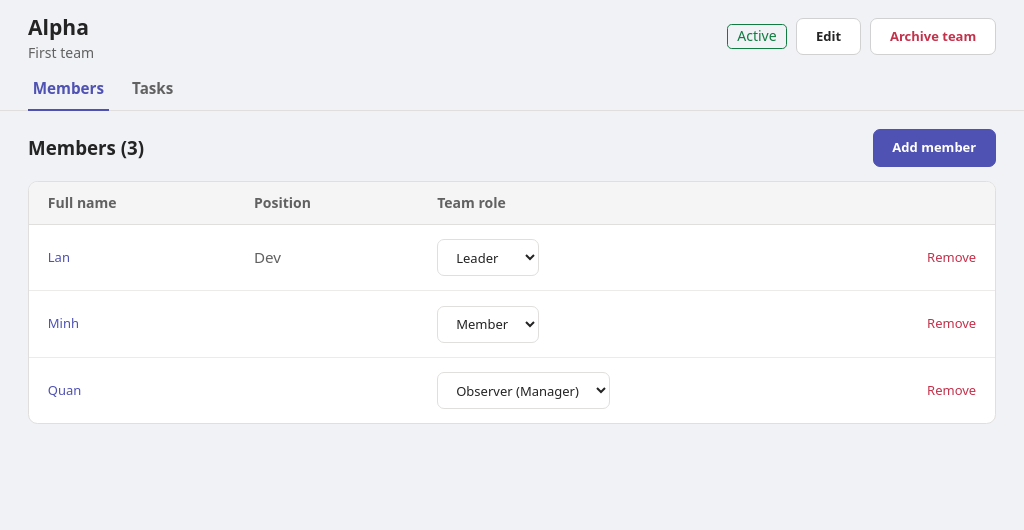
Test: TeamDetailView › should_showServerError_when_changeRoleRejected
The width and height of the screenshot is (1024, 530).
Select "Member" in the 1st dropdown with class "role-select" at (488, 258), box [437,239,539,276]
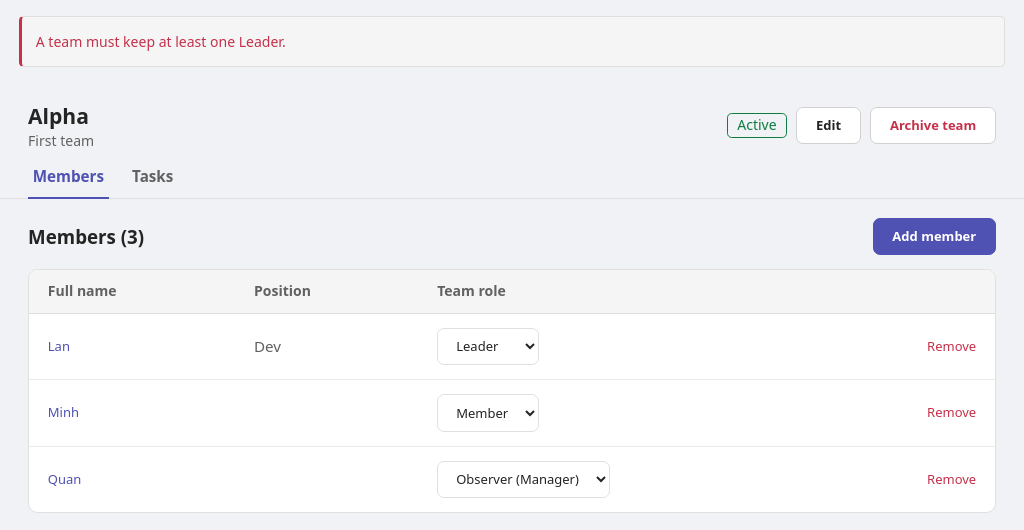
Now the text "A team must keep at least one Leader." is shown, box [36,32,286,51]
